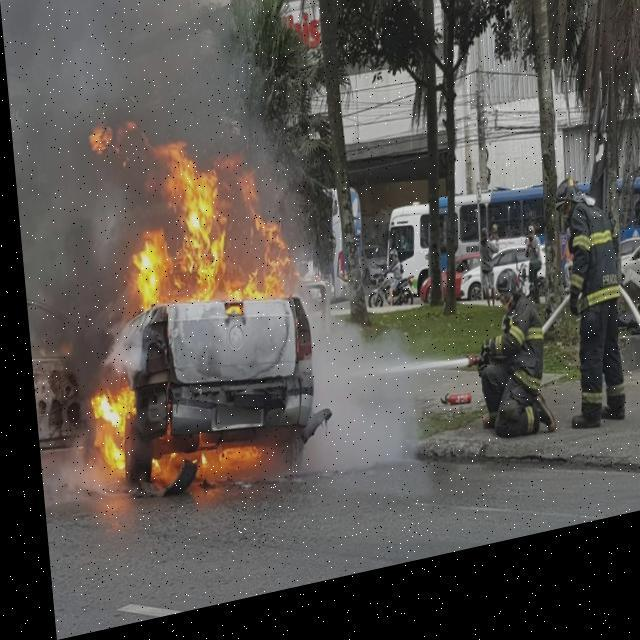Fire: (84, 89, 294, 350), (83, 358, 260, 509)
